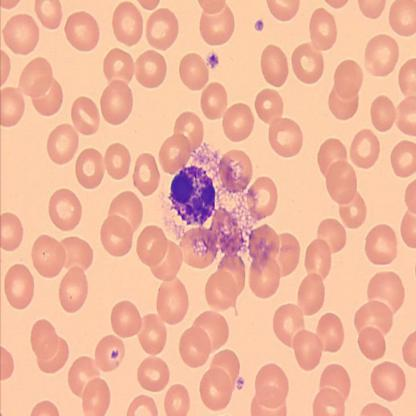Basophil: (166, 163, 218, 227)
